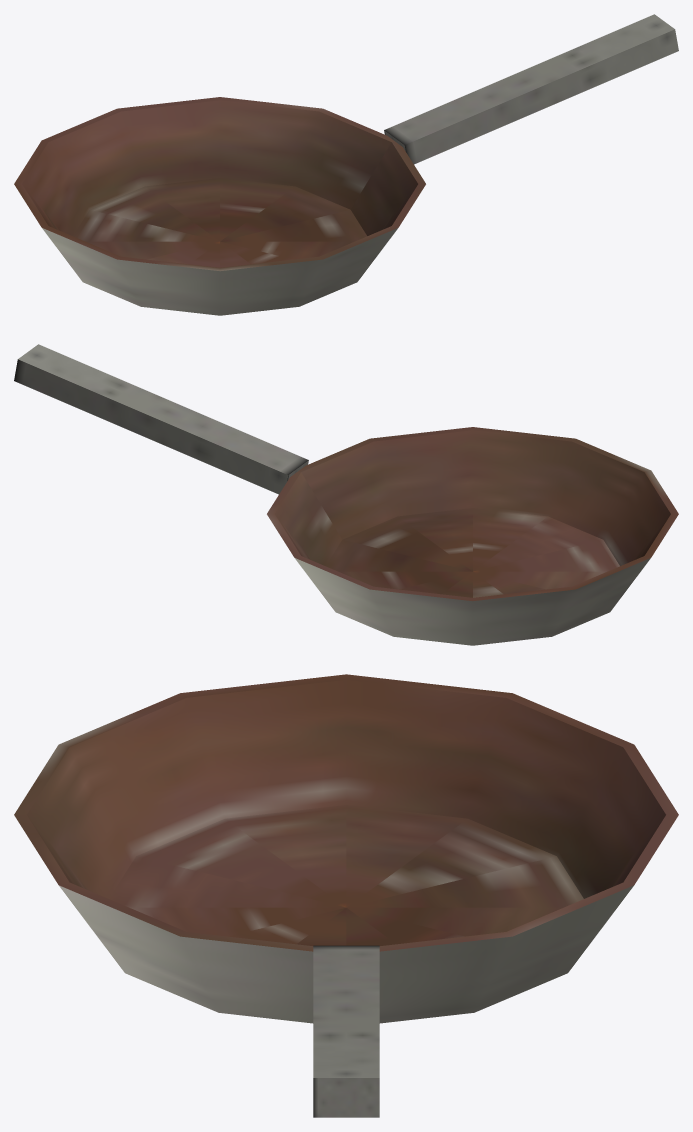
Rendered from frying_pan_steel.fbx.
3 renders of one model, top to bottom at view 1: azimuth 30°, elevation 25°; view 2: azimuth 150°, elevation 25°; view 3: azimuth 270°, elevation 25°, orthographic. The views are drawn at different scales.
Visible parts, largest first — view 1: frying_pan_steel; view 2: frying_pan_steel; view 3: frying_pan_steel.
Boxes of the visible parts, x1,y1,x2,y2 form: frying_pan_steel: (14, 14, 678, 315); frying_pan_steel: (14, 344, 678, 645); frying_pan_steel: (14, 674, 678, 1117).
Size of the model in its own units: 0.4566 by 0.0825 by 0.26.
